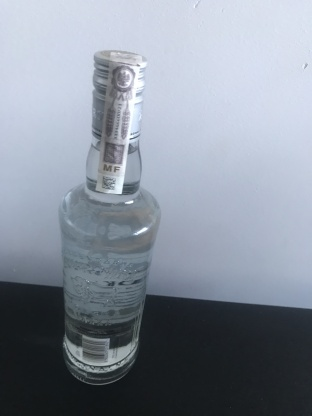nakretka: (89, 45, 149, 146)
